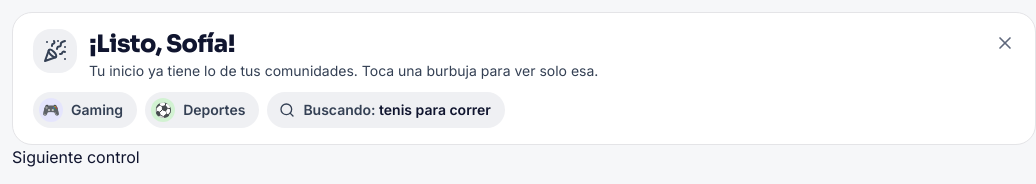
it: WelcomeCard › se puede cerrar y el foco pasa al siguiente control
Click the button named "Cerrar bienvenida" at [1005, 43], box [987,25,1023,61]
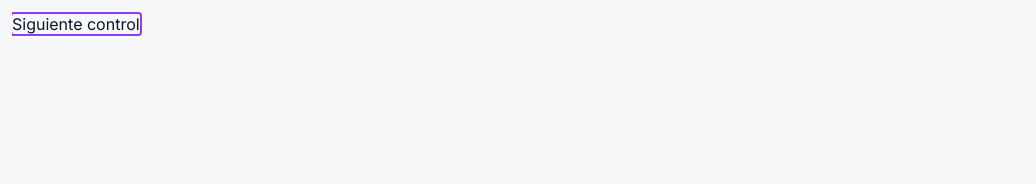
Result: the heading "¡Listo, Sofía!" is gone
